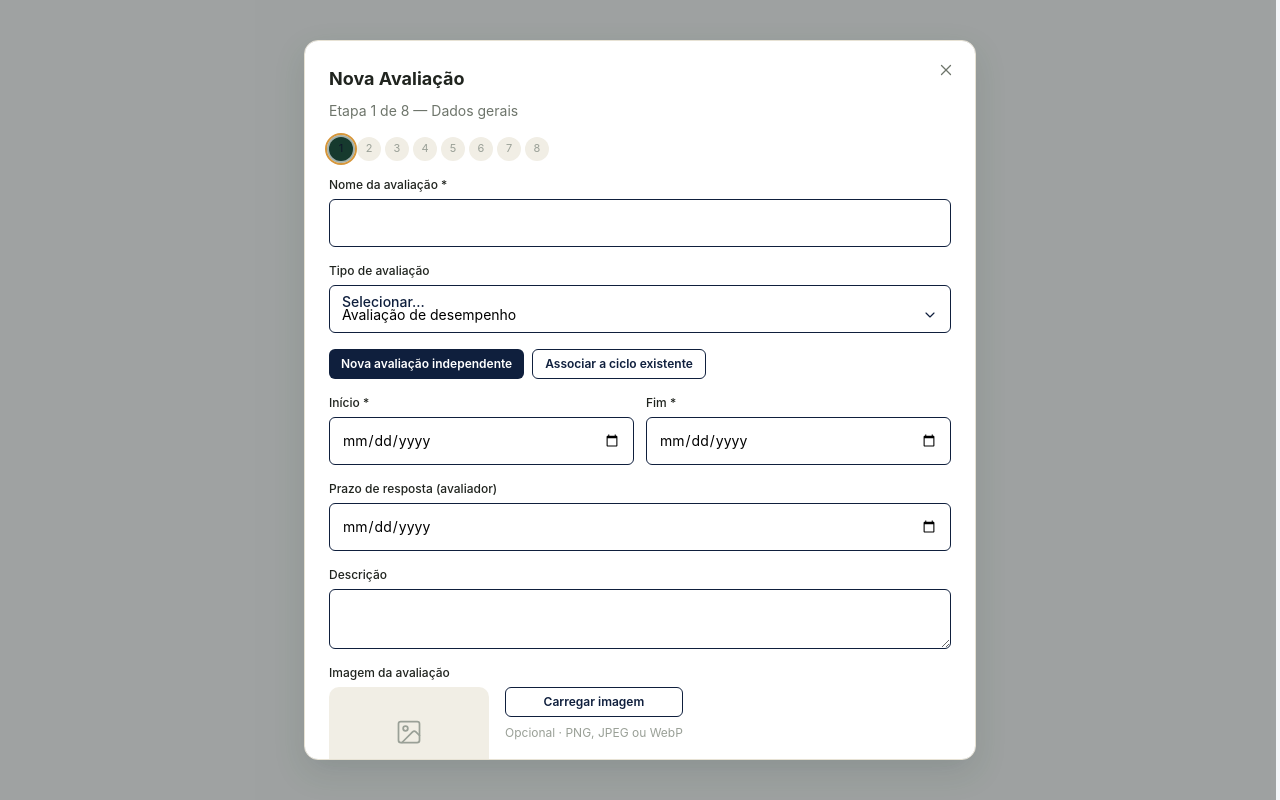
NewEvaluationWizard › etapa 1: preencher nome + datas (modo independente) activa "Continuar"
The width and height of the screenshot is (1280, 800).
Type "Avaliação de Desempenho 2026" into the field labelled "Nome da avaliação *" at (640, 223), box [329,199,951,247]
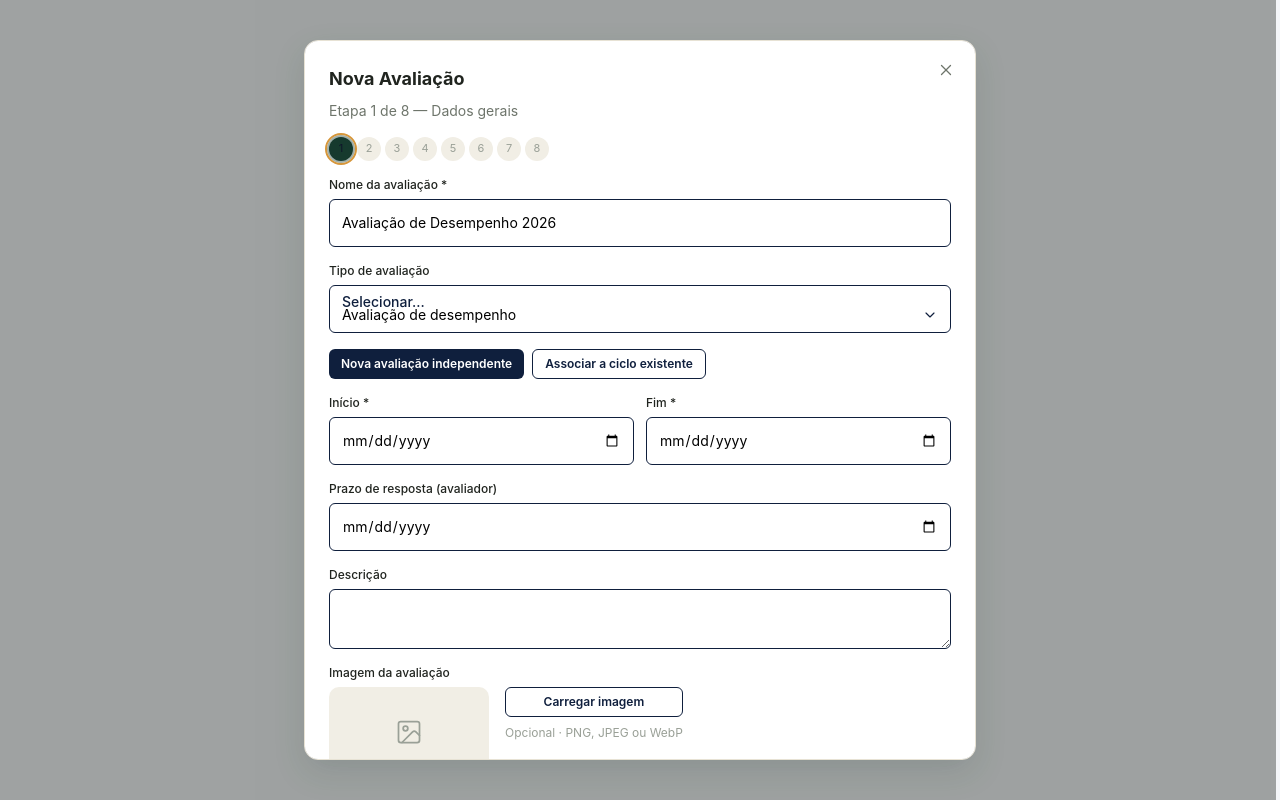
Type "2026-01-01" into the date field labelled "Início *" at (482, 441), box [329,417,634,465]
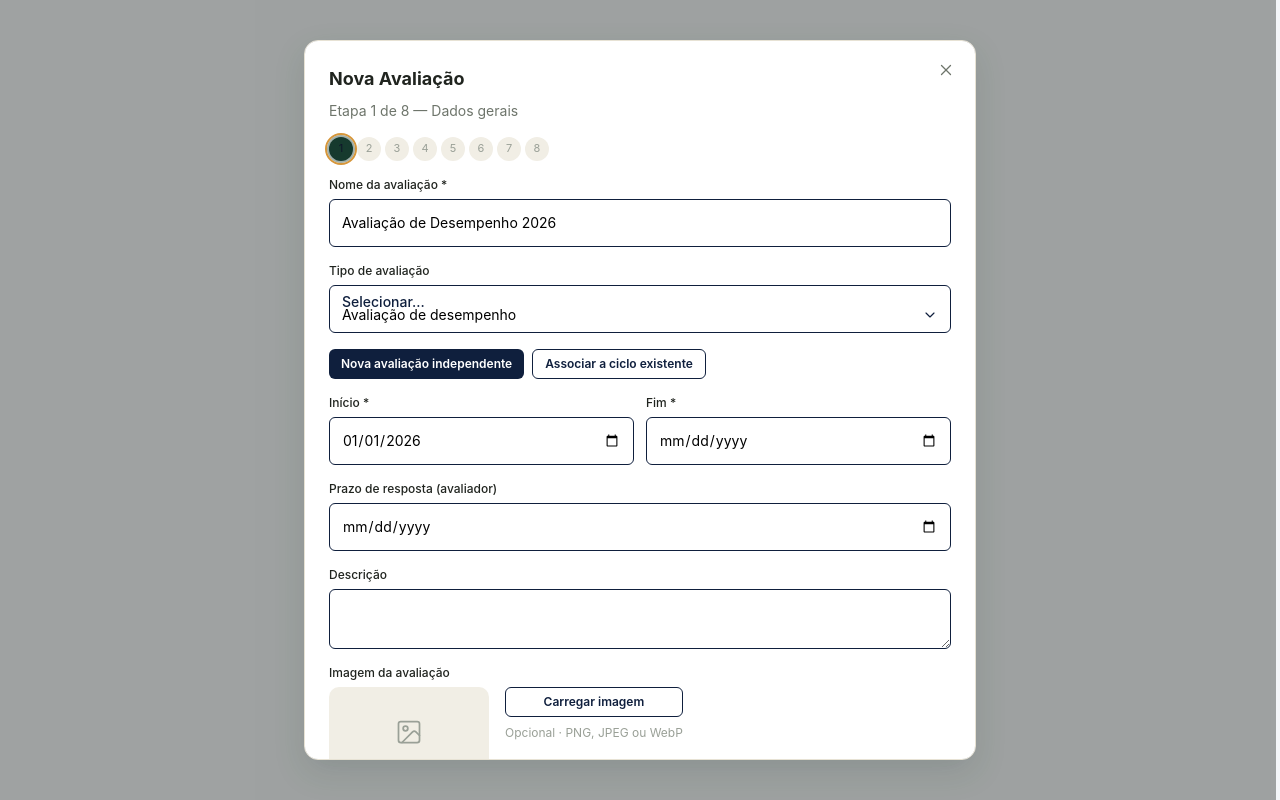
Type "2026-12-31" into the date field labelled "Fim *" at (798, 441), box [646,417,951,465]
(page scrolled)
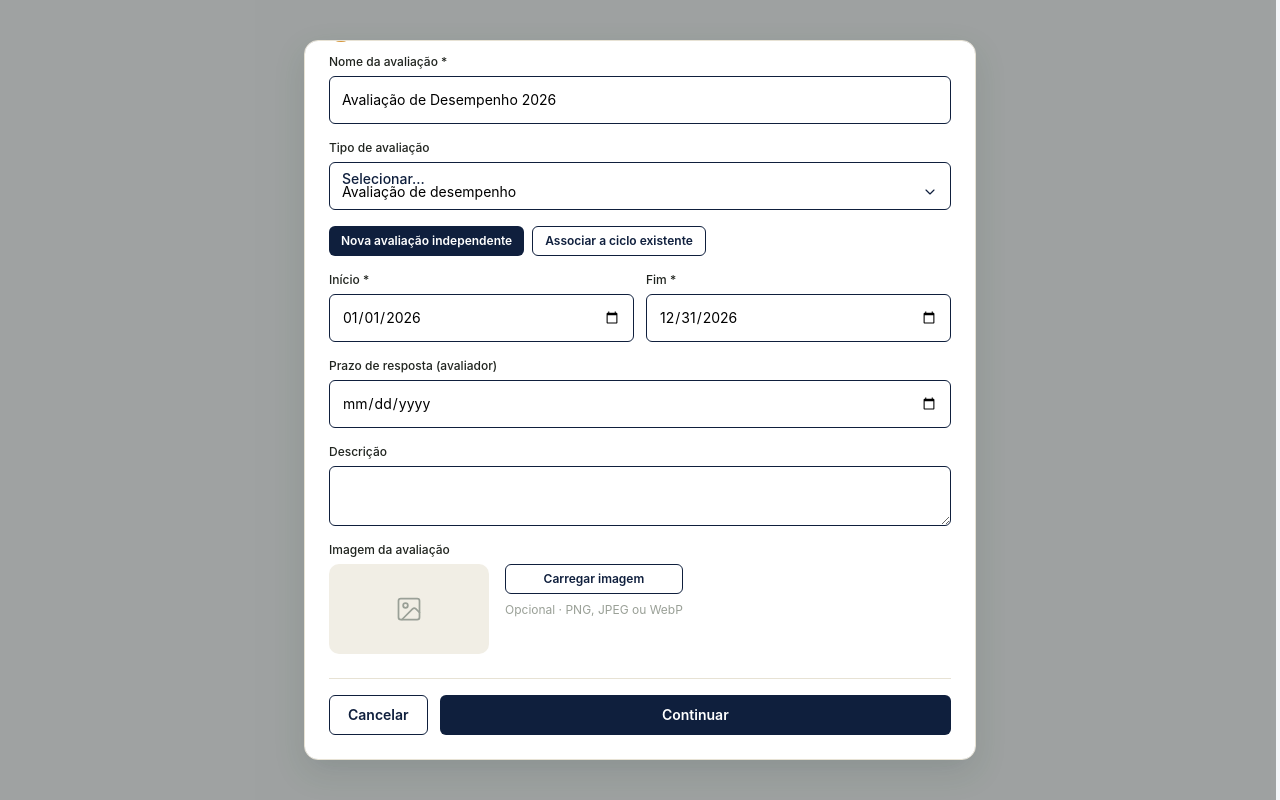
expect the button "Continuar" is enabled: met, box [440,695,951,735]
